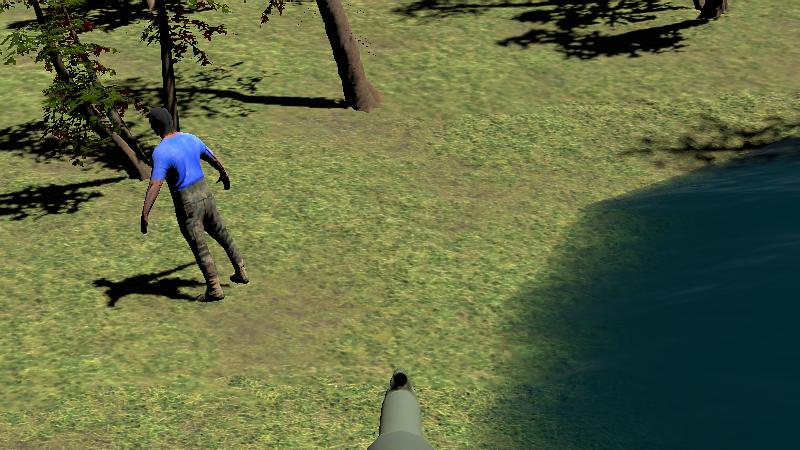Human: (139, 105, 251, 300)
